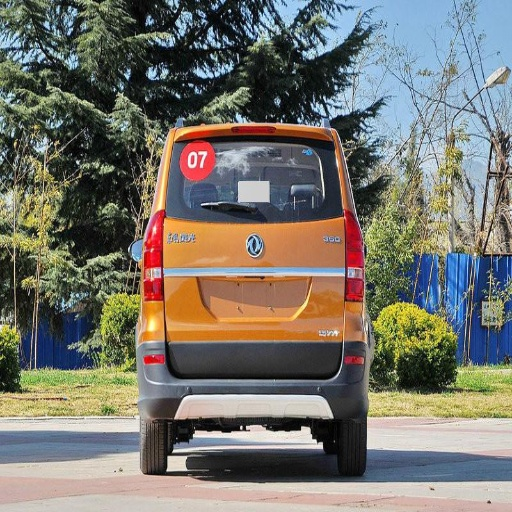back_bumper: (140, 301, 368, 417)
trunk: (163, 197, 349, 377)
